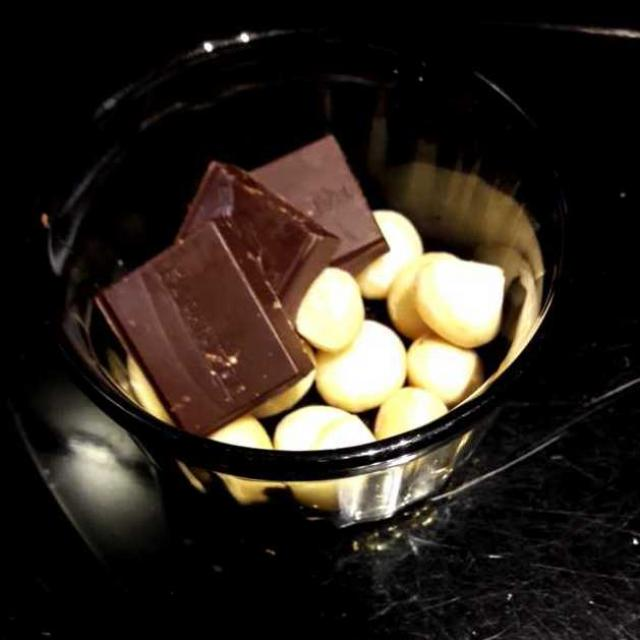chocolate: (101, 126, 399, 433)
